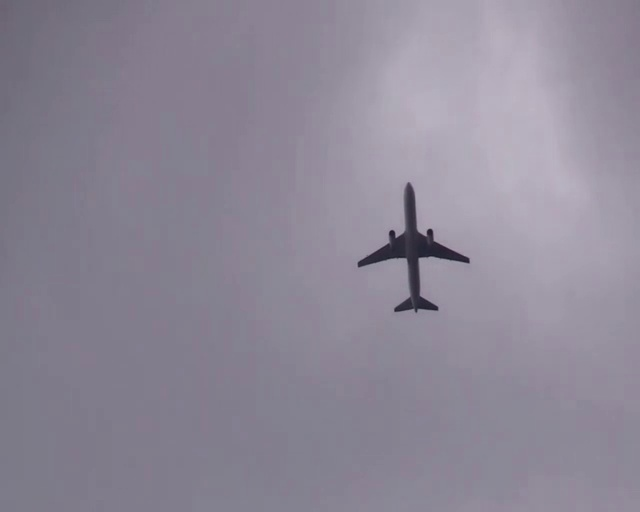AIRPLANE: (356, 181, 471, 313)
